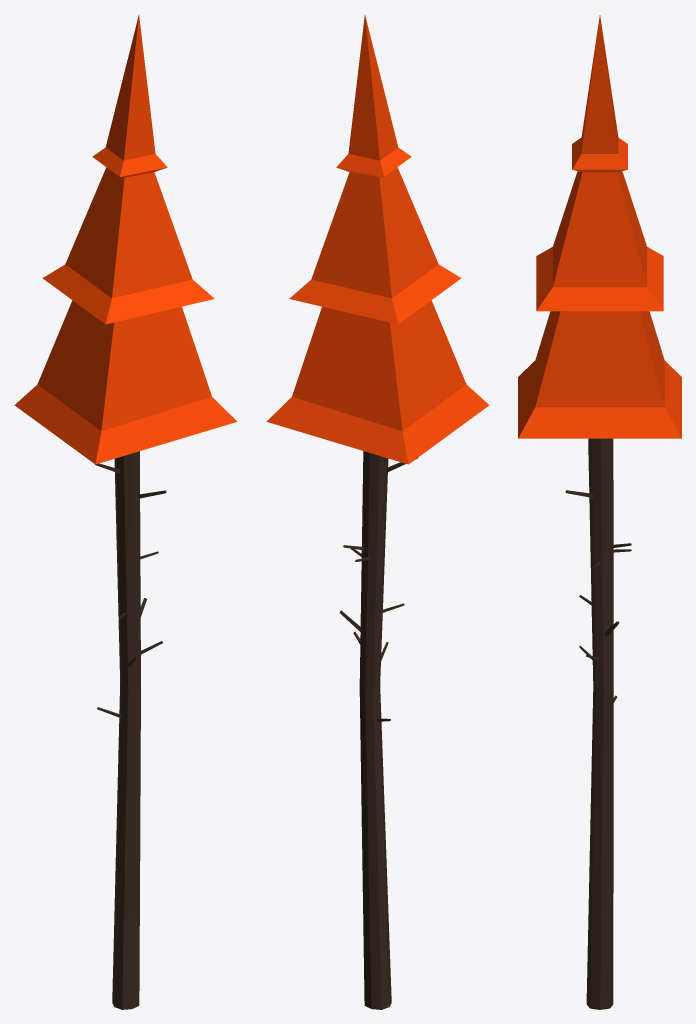
Rendered from tree_orange_3_new.FBX.
3 views of the same model, side by side, from view 1: azimuth 30°, elevation 25°; view 2: azimuth 150°, elevation 25°; view 3: azimuth 270°, elevation 25° (orthographic).
Visible parts, largest first — view 1: tree_orange_3; view 2: tree_orange_3; view 3: tree_orange_3.
Boxes of the visible parts, x1,y1,x2,y2 form: tree_orange_3: (14,15,237,1009); tree_orange_3: (266,15,489,1009); tree_orange_3: (518,15,681,1009).
Bounding box in the file's own units: 270 × 1792 × 267.
